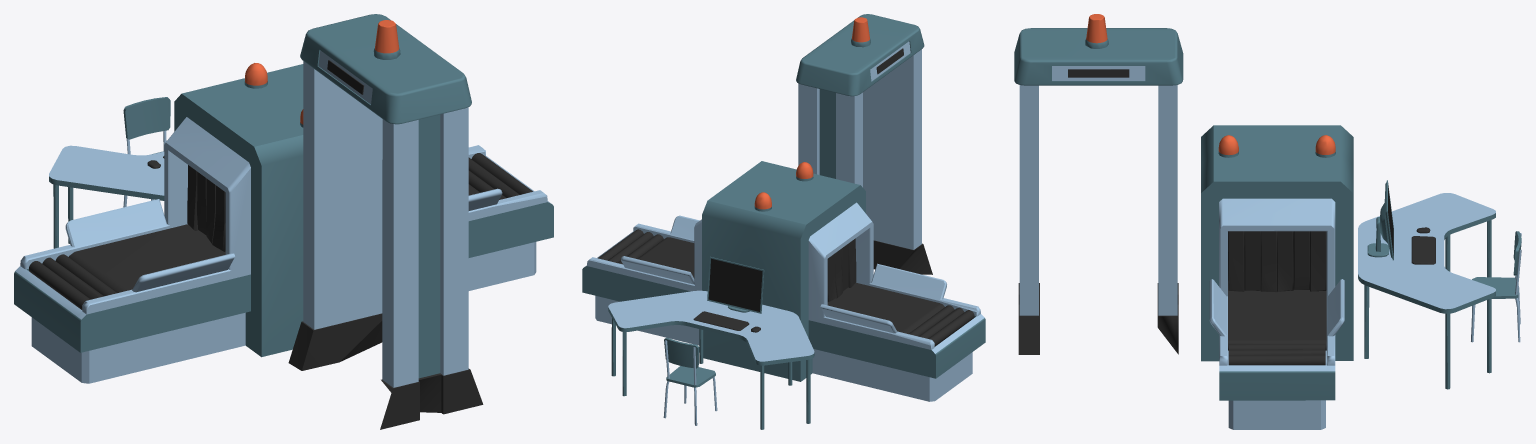
The model's file is 09.SecurityCheck_LOD1.fbx.
The picture shows the model from 3 angles, left to right: view 1: azimuth 30°, elevation 25°; view 2: azimuth 150°, elevation 25°; view 3: azimuth 270°, elevation 25°; orthographic projection. The views are drawn at different scales.
Parts seen in each view (by area): view 1: _09_SecurityCheck; view 2: _09_SecurityCheck; view 3: _09_SecurityCheck.
Boxes of the visible parts, bbox=[...] form: _09_SecurityCheck: bbox=[14, 14, 553, 429]; _09_SecurityCheck: bbox=[582, 14, 985, 429]; _09_SecurityCheck: bbox=[1014, 14, 1521, 429].
Bounding box in the file's own units: 495 × 361 × 525.
Materials: 1 (1 with a texture image).
